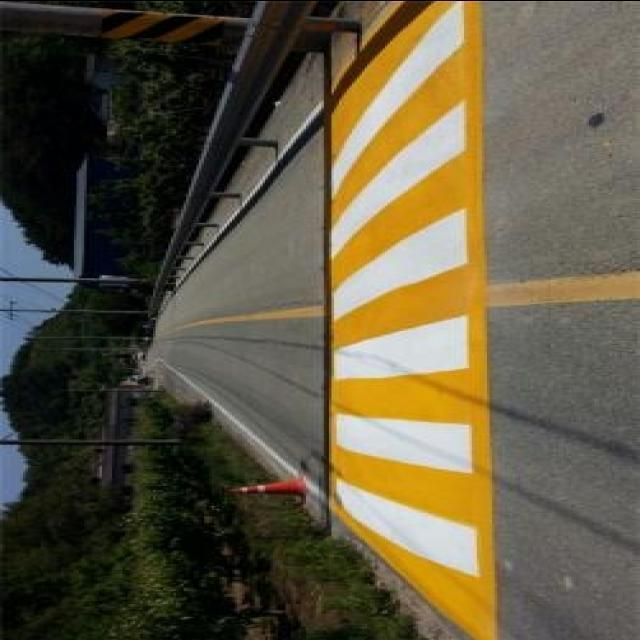speedbreaker: (328, 0, 506, 640)
